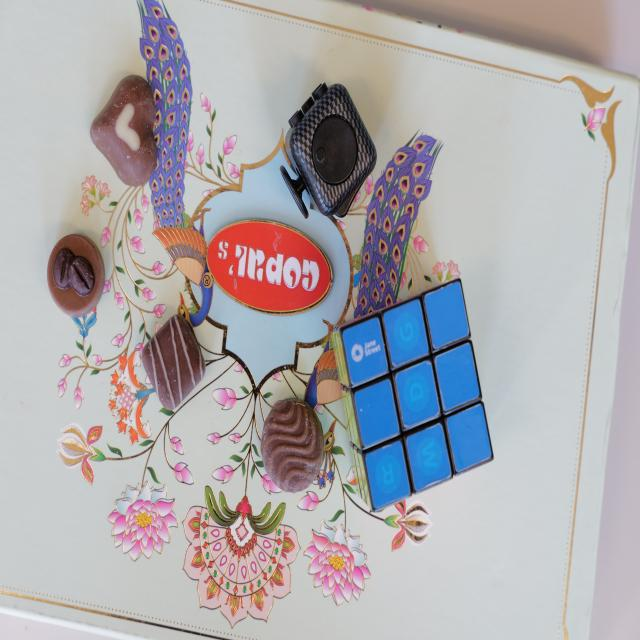Arabia: (48, 229, 105, 317)
Noir_authentique: (262, 397, 326, 494)
Passion_au_lait: (92, 75, 162, 188)
Stracciatella: (143, 311, 206, 414)
